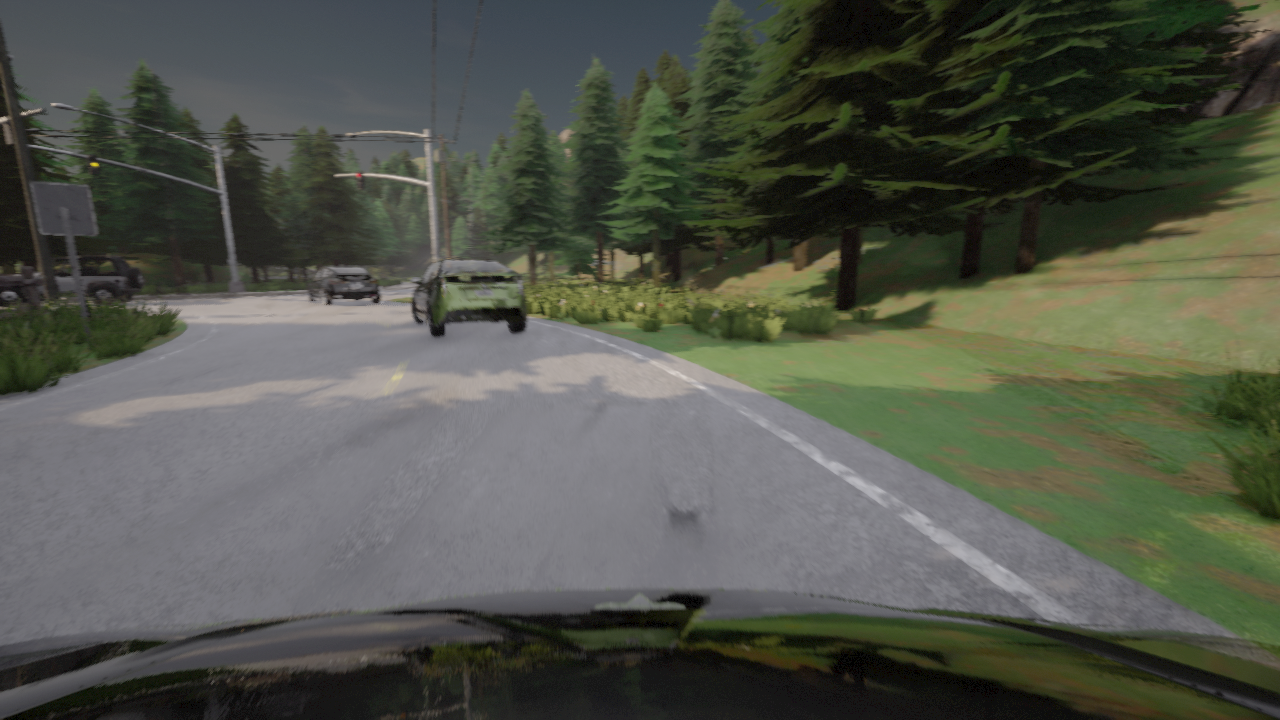cyclist: (0, 588, 1279, 719), (410, 259, 526, 337), (0, 255, 143, 307), (307, 267, 381, 305), (379, 274, 388, 279)
